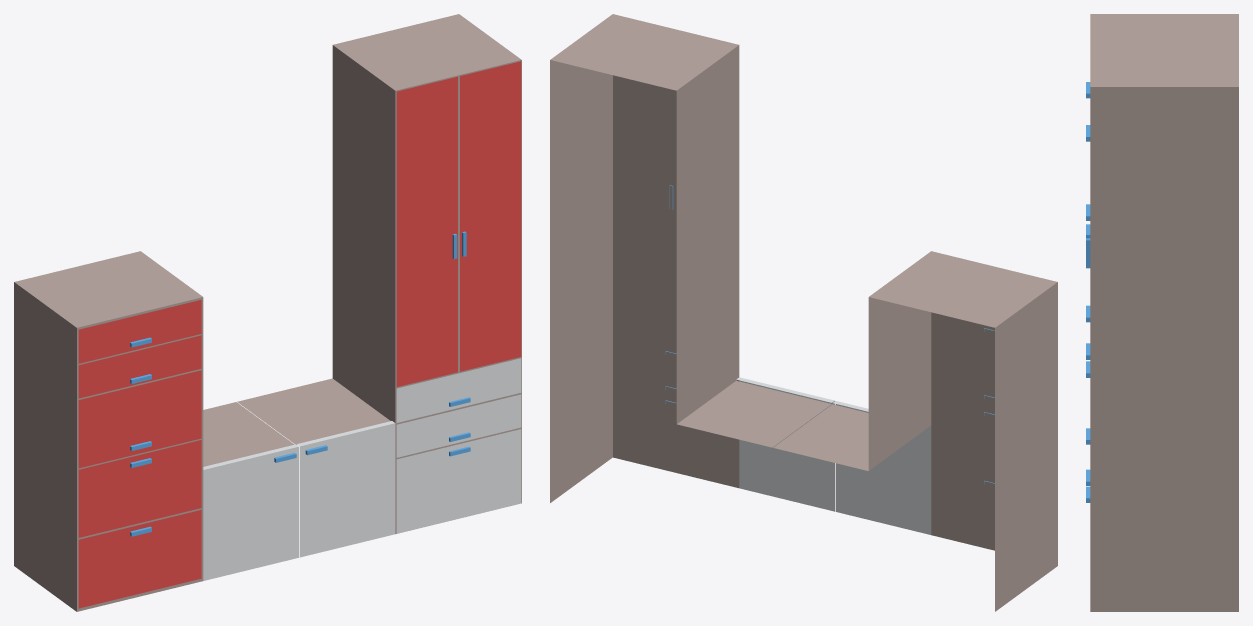
File: Cabort_M_01.fbx
3 renders of one model, left to right at view 1: azimuth 30°, elevation 25°; view 2: azimuth 150°, elevation 25°; view 3: azimuth 270°, elevation 25°, orthographic. The views are drawn at different scales.
Visible parts, largest first — view 1: Cabort_M_01; view 2: Cabort_M_01; view 3: Cabort_M_01.
Part boxes in pixels (x1,y1,x2,y2): Cabort_M_01: (14,14,521,611); Cabort_M_01: (550,14,1057,611); Cabort_M_01: (1086,14,1238,611).
Size of the model in its own units: 206 by 197 by 51.83.
Materials: 1 (1 with a texture image).
